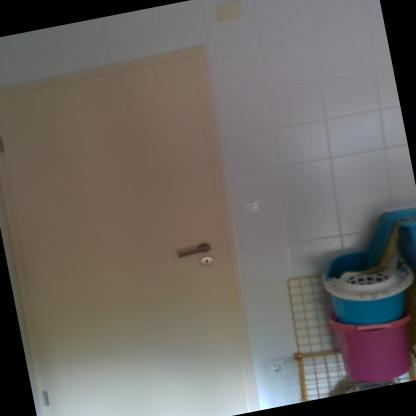closed: (0, 28, 286, 415)
